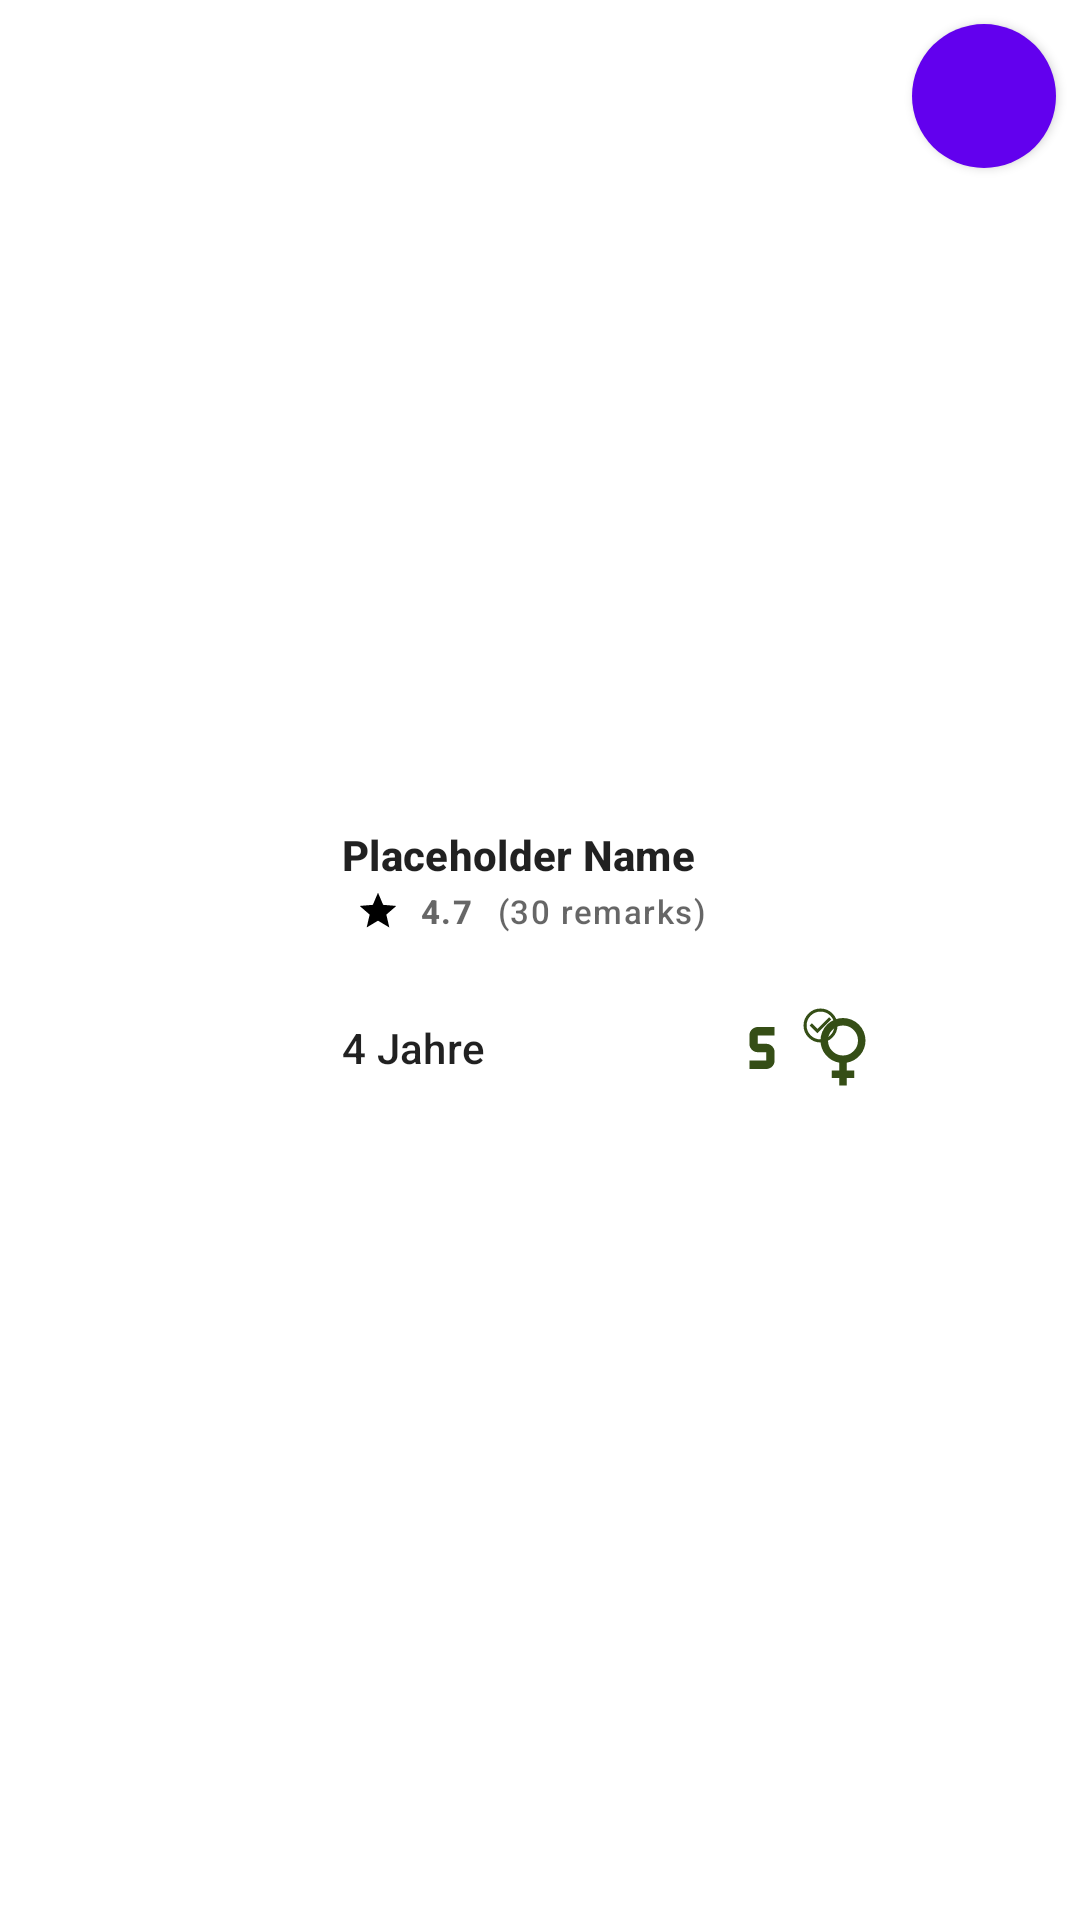

Screen size 1080x1920. Icon name, then its box in pixels as [x1=x1, y1=y1, x2=x2, y2=y2]:
gender female neutered: [x1=803, y1=1008, x2=866, y2=1086]
size: [x1=749, y1=1027, x2=775, y2=1069]
Star: [x1=360, y1=893, x2=396, y2=928]
